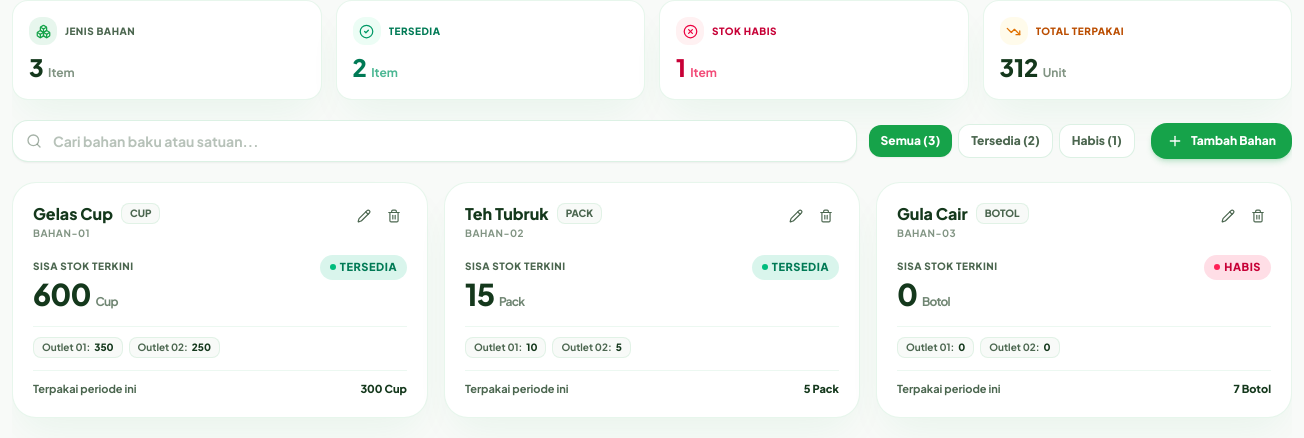
it: StokPanel › filters items by search keyword
Type "Teh" into the field with placeholder "Cari bahan baku atau satuan..." at (434, 141), box left=12, top=120, right=856, bottom=162
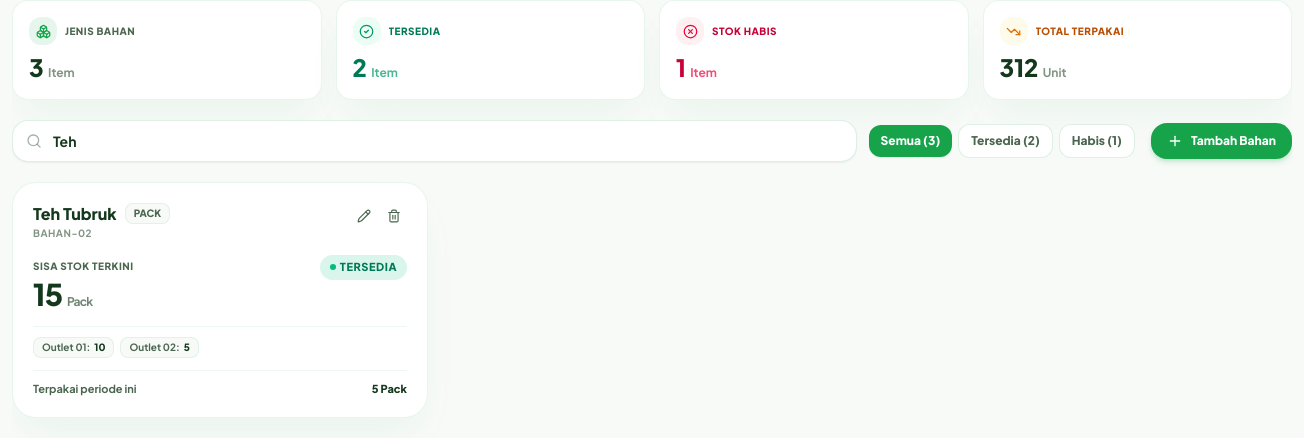
Expected: the heading "Teh Tubruk" is shown, left=33, top=204, right=117, bottom=224
Result: the heading "Gelas Cup" is gone
Result: the heading "Gula Cair" is gone
